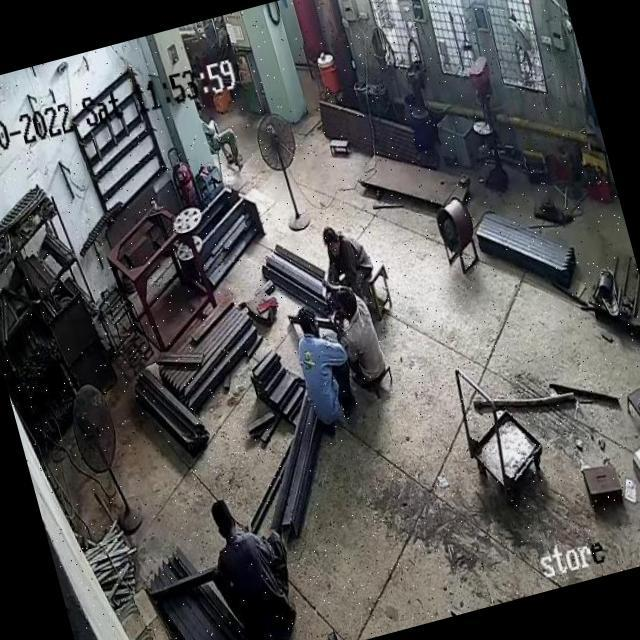person: (193, 487, 308, 640), (282, 304, 364, 434), (309, 216, 384, 330), (324, 282, 392, 385), (190, 90, 247, 179)
